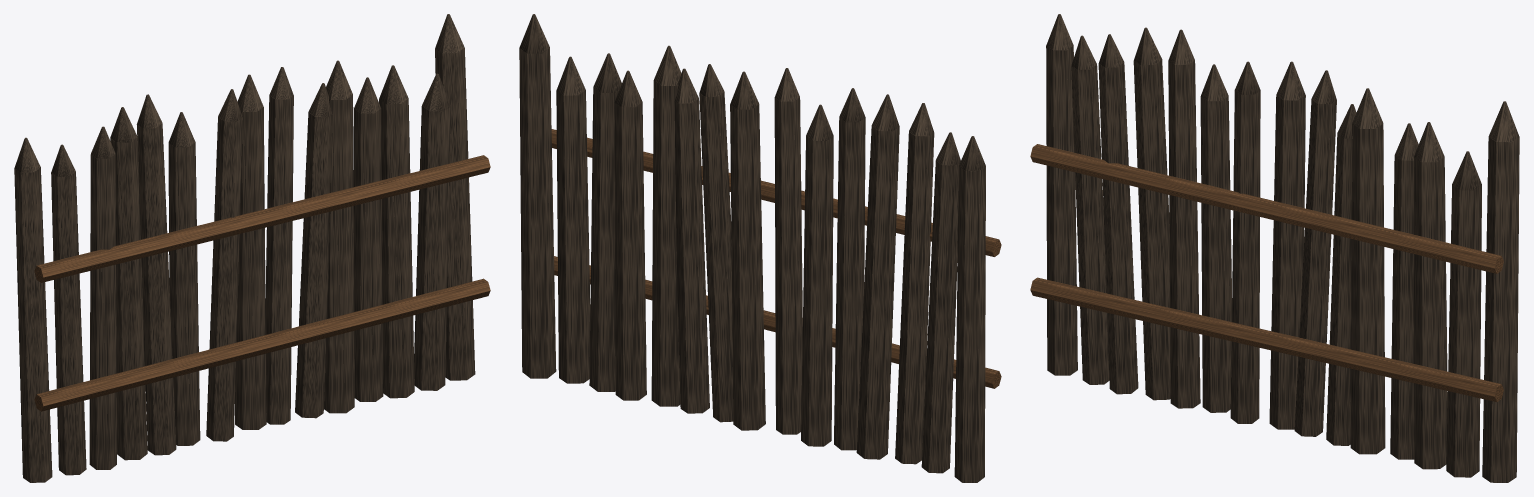
The model's file is palizzata_tratto.glb.
3 renders of one model, left to right at view 1: azimuth 30°, elevation 25°; view 2: azimuth 150°, elevation 25°; view 3: azimuth 330°, elevation 25°, orthographic. The views are drawn at different scales.
Visible parts, largest first — view 1: palizzata_tratto; view 2: palizzata_tratto; view 3: palizzata_tratto.
Part boxes in pixels (x1,y1,x2,y2): palizzata_tratto: [14, 14, 490, 482]; palizzata_tratto: [519, 14, 1001, 482]; palizzata_tratto: [1030, 14, 1519, 482].
Bounding box in the file's own units: 4.03 × 3.04 × 0.5018.
Materials: 2 (2 with a texture image).
